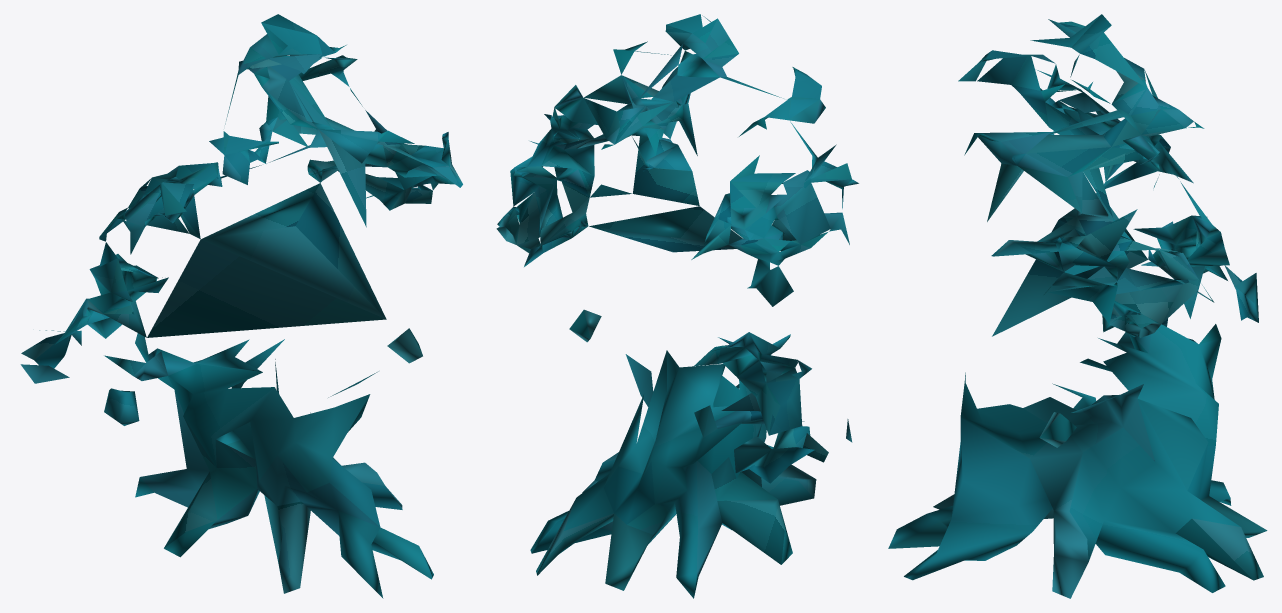
File: tree_glow_shadow.glb
3 renders of one model, left to right at view 1: azimuth 30°, elevation 25°; view 2: azimuth 150°, elevation 25°; view 3: azimuth 270°, elevation 25°, orthographic. The views are drawn at different scales.
Visible parts, largest first — view 1: plant; view 2: plant; view 3: plant.
Part boxes in pixels (<box>): plant: <box>20,14,462,598</box>; plant: <box>496,14,858,598</box>; plant: <box>888,14,1267,598</box>.
Size of the model in its own units: 3.71 by 4.68 by 3.06.
1 material, 1 textured.
